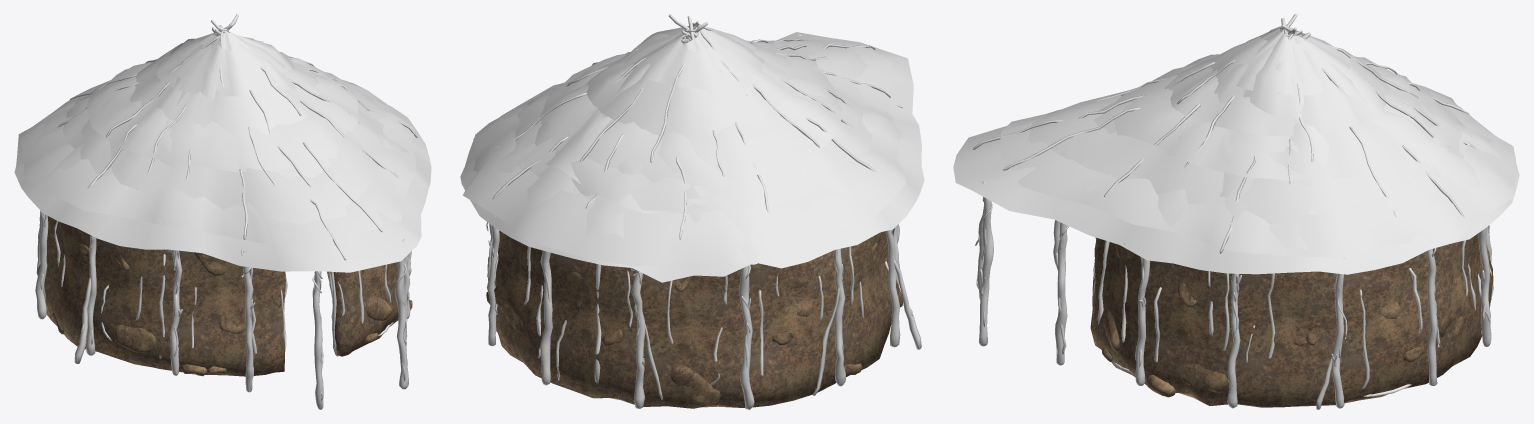
The model's file is midpoly_african_hut_003.fbx.
The picture shows the model from 3 angles, left to right: view 1: azimuth 30°, elevation 25°; view 2: azimuth 150°, elevation 25°; view 3: azimuth 270°, elevation 25°; orthographic projection. The views are drawn at different scales.
Visible parts, largest first — view 1: midpoly_african_hut_002; view 2: midpoly_african_hut_002; view 3: midpoly_african_hut_002.
Part boxes in pixels (left/top/right/bottom): midpoly_african_hut_002: left=14, top=14, right=431, bottom=409; midpoly_african_hut_002: left=460, top=14, right=924, bottom=409; midpoly_african_hut_002: left=953, top=14, right=1519, bottom=409.
Bounding box in the file's own units: 450 × 332 × 546.
